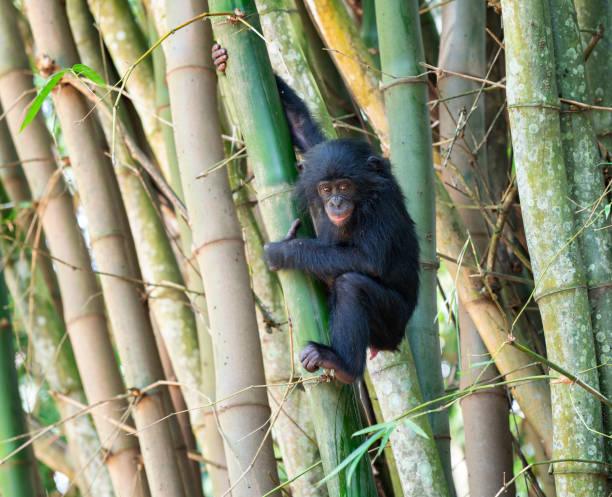chimpanzee: (300, 139, 389, 230)
